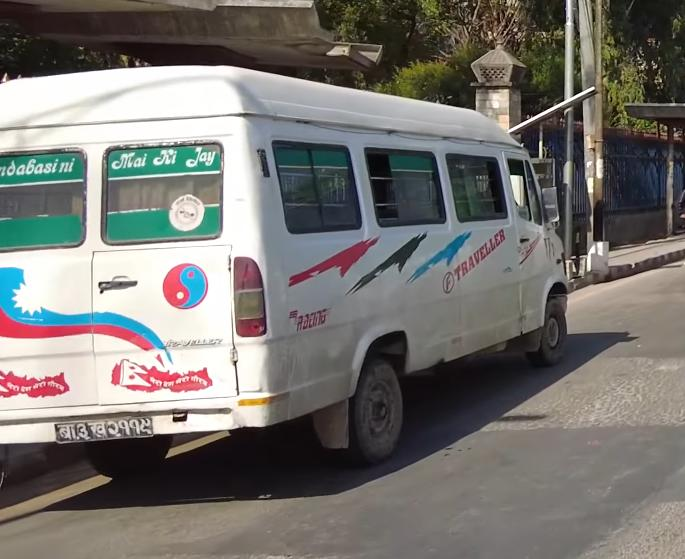micro_bus: (0, 62, 578, 482)
